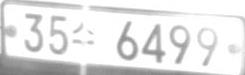3: (24, 12, 44, 52)
4: (141, 23, 166, 62)
5: (48, 14, 68, 55)
6: (116, 20, 139, 61)
9: (168, 24, 190, 64), (196, 26, 218, 66)
수: (71, 19, 95, 54)
